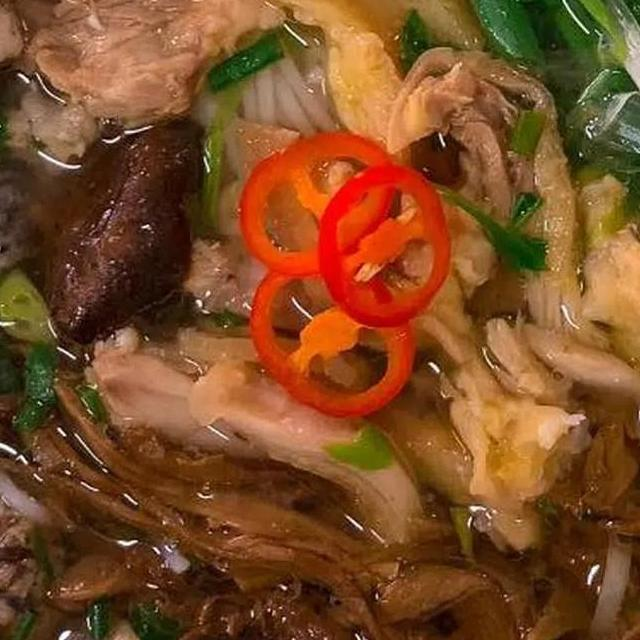bun: (166, 13, 375, 354)
vien moc: (0, 477, 76, 640)
